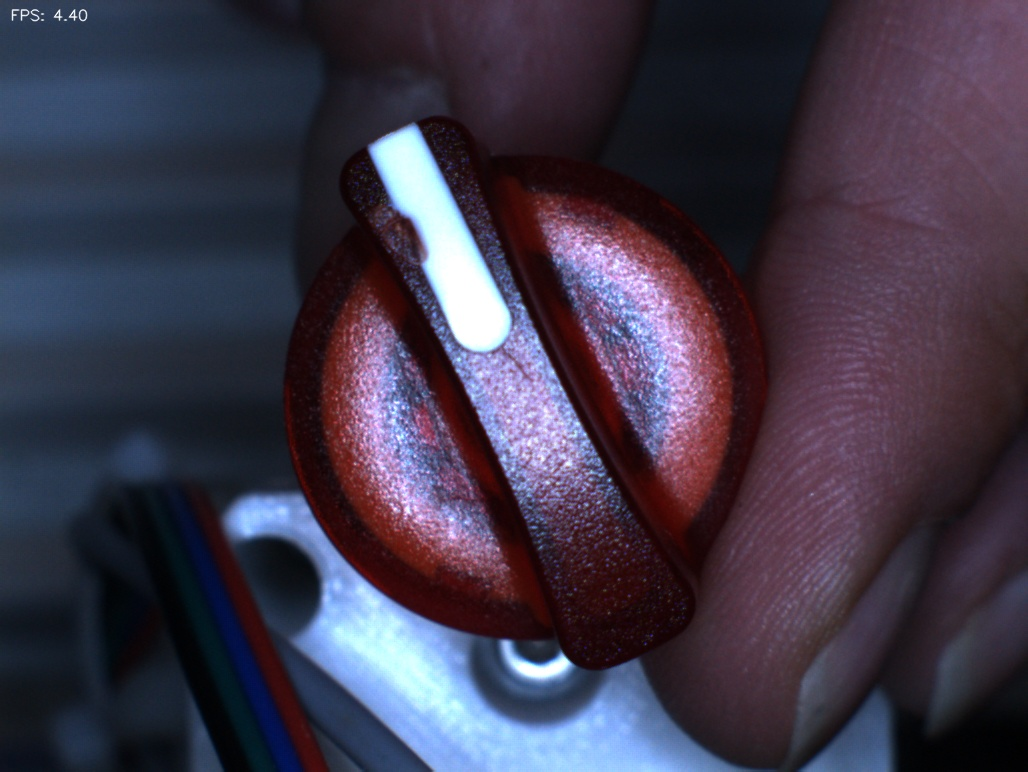Choc: (347, 187, 443, 283)
